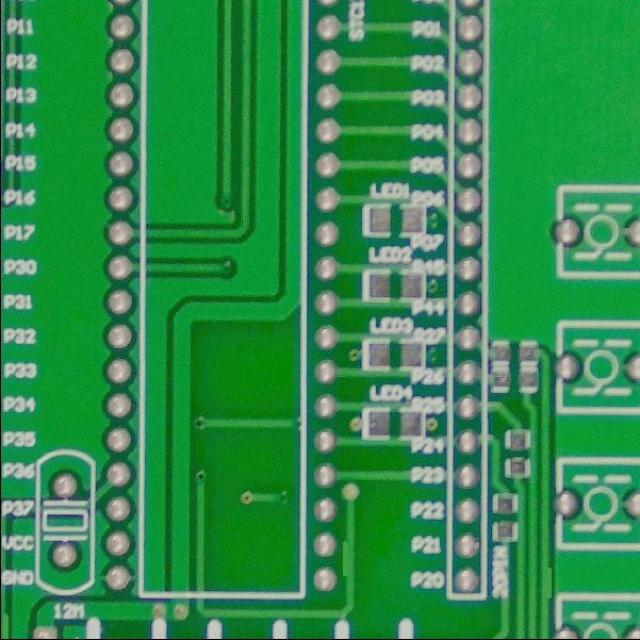Spur: (335, 534, 359, 580), (537, 561, 556, 603)
